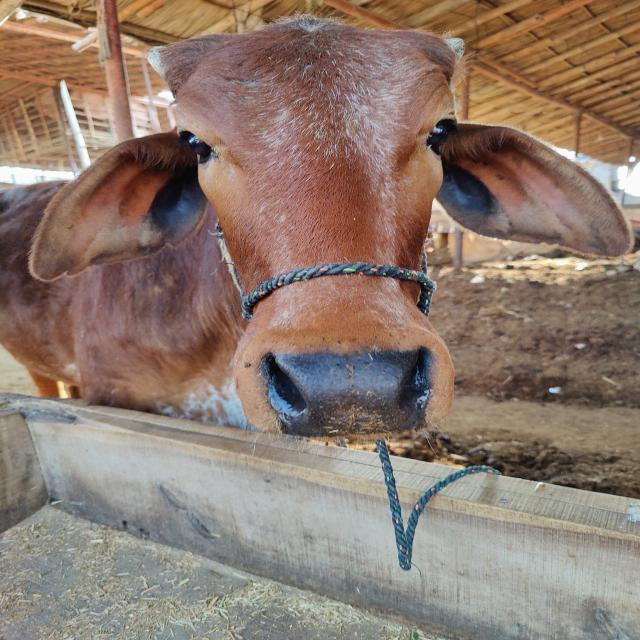muzzles: (254, 340, 441, 442)
